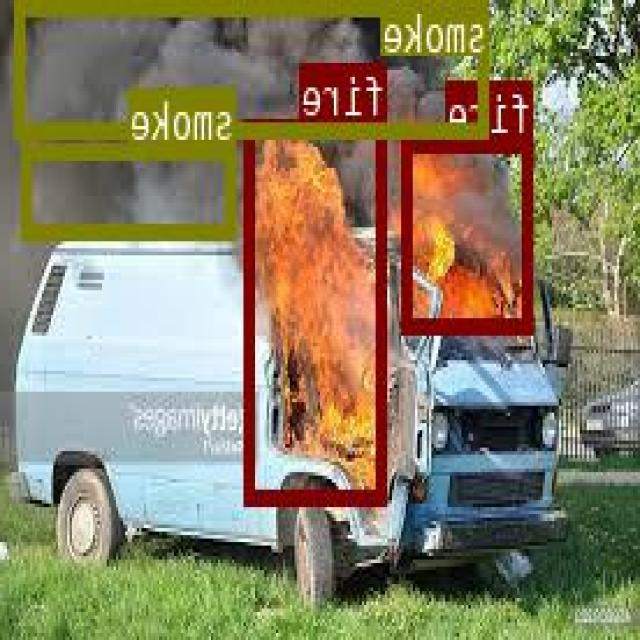fire: (246, 119, 388, 504), (404, 133, 534, 331)
smoke: (18, 0, 491, 136), (25, 142, 238, 236)
